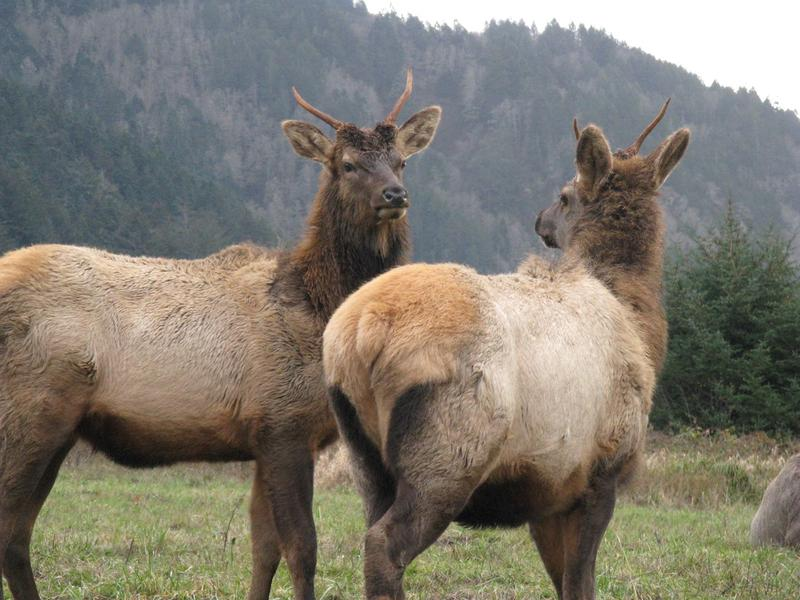elk: (1, 94, 438, 600), (328, 94, 691, 591)
